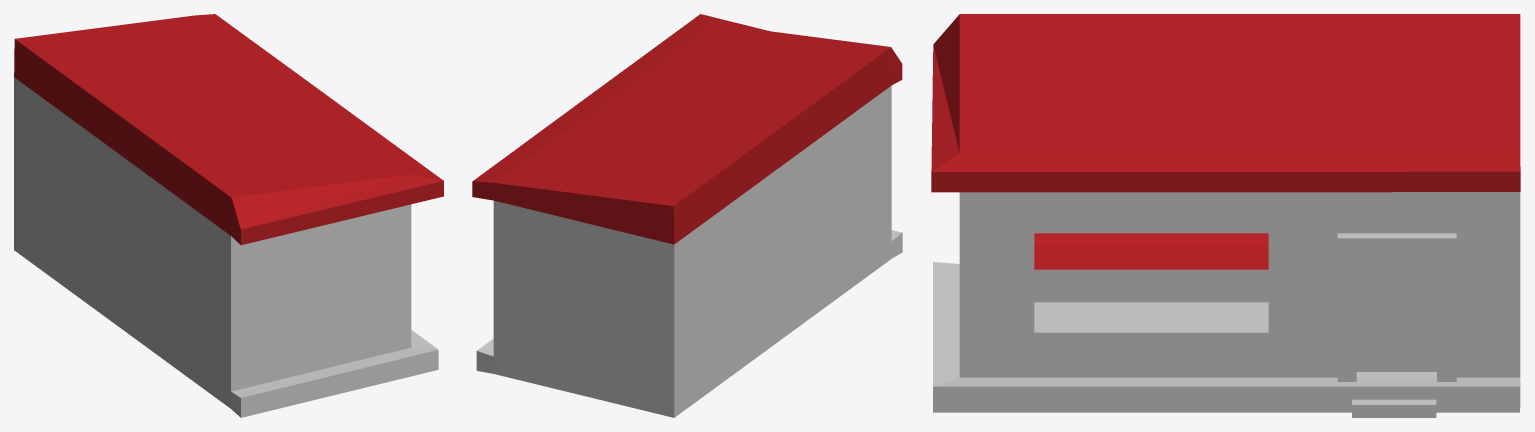
The model's file is tienda2.dae.
The picture shows the model from 3 angles, left to right: view 1: azimuth 30°, elevation 25°; view 2: azimuth 150°, elevation 25°; view 3: azimuth 270°, elevation 25°; orthographic projection. The views are drawn at different scales.
Visible parts, largest first — view 1: pared, techo, bordillo; view 2: pared, techo, bordillo; view 3: techo, pared, bordillo, marco, puerta, ventana.
Boxes of the visible parts, bbox=[...] form: pared: bbox=[14, 77, 411, 391]; techo: bbox=[14, 14, 443, 245]; bordillo: bbox=[14, 233, 438, 417]; pared: bbox=[493, 86, 891, 400]; techo: bbox=[472, 14, 902, 244]; bordillo: bbox=[476, 230, 902, 417]; techo: bbox=[931, 14, 1520, 269]; pared: bbox=[959, 192, 1520, 377]; bordillo: bbox=[933, 262, 1520, 417]; marco: bbox=[1034, 233, 1456, 381]; puerta: bbox=[1356, 262, 1436, 371]; ventana: bbox=[1034, 269, 1268, 302].
Bounding box in the file's own units: 77.3 × 148 × 76.
